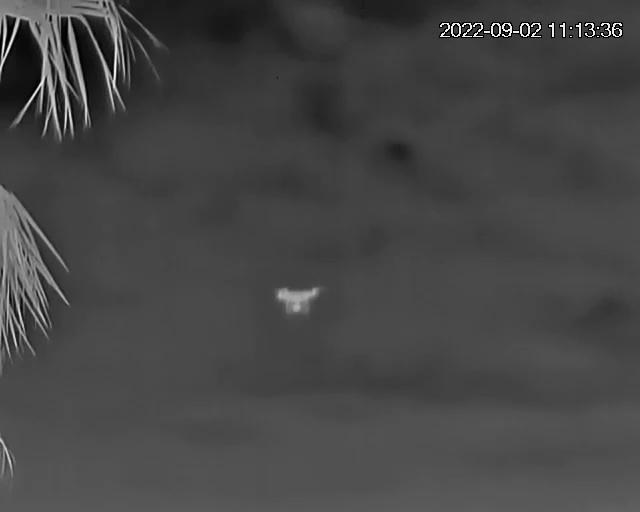DJI-Phantom: (276, 285, 324, 319)
